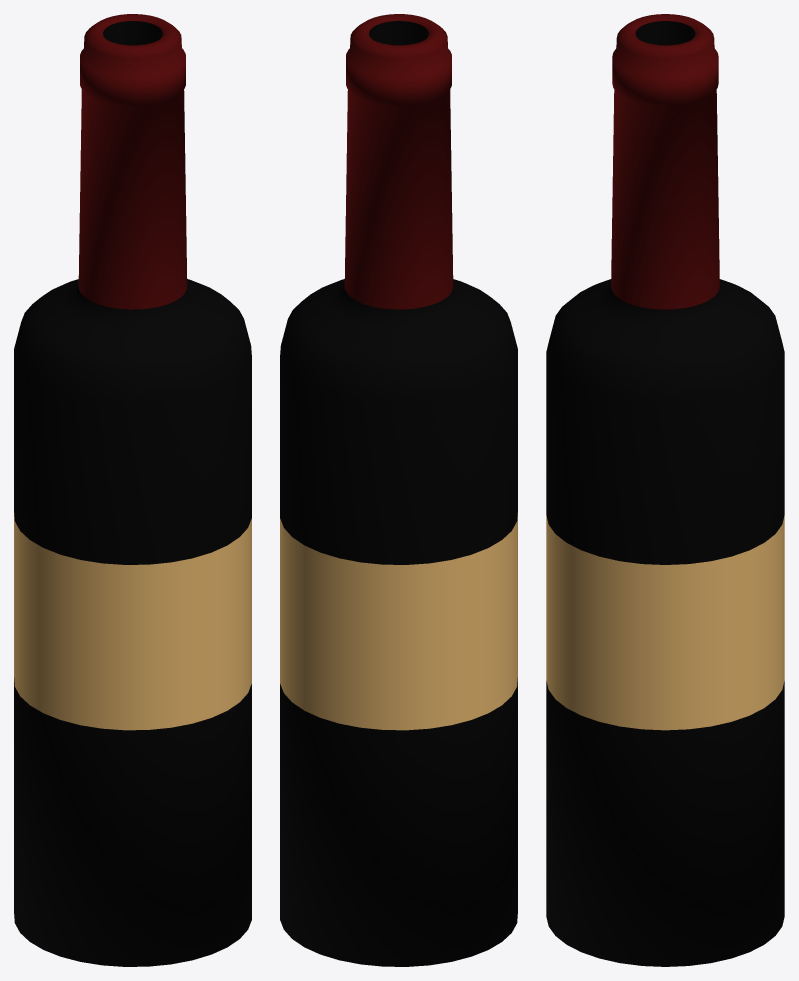
File: obj_wine_bottle_b60b49.glb
The picture shows the model from 3 angles, left to right: view 1: azimuth 30°, elevation 25°; view 2: azimuth 150°, elevation 25°; view 3: azimuth 270°, elevation 25°; orthographic projection.
Parts seen in each view (by area): view 1: obj_wine_bottle_b60b49; view 2: obj_wine_bottle_b60b49; view 3: obj_wine_bottle_b60b49.
Boxes of the visible parts, x1,y1,x2,y2 form: obj_wine_bottle_b60b49: [14, 14, 251, 966]; obj_wine_bottle_b60b49: [280, 14, 517, 966]; obj_wine_bottle_b60b49: [546, 14, 784, 966].
Bounding box in the file's own units: 0.0732 × 0.3 × 0.0732.
